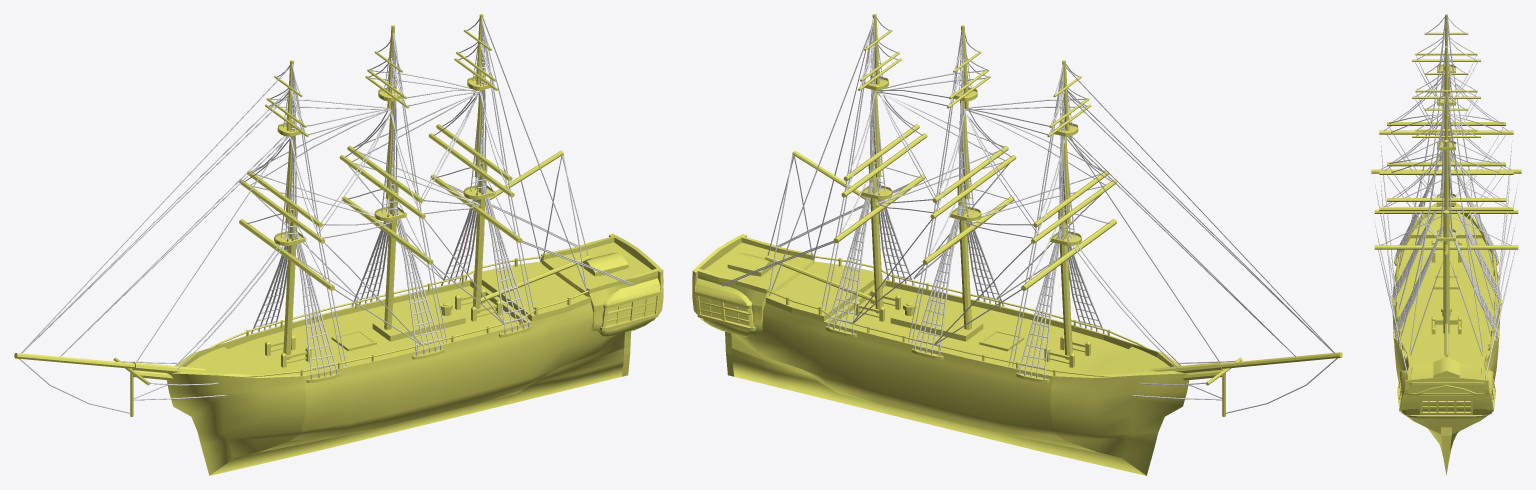
The model's file is ship.fbx.
3 renders of one model, left to right at view 1: azimuth 30°, elevation 25°; view 2: azimuth 150°, elevation 25°; view 3: azimuth 270°, elevation 25°, orthographic. The views are drawn at different scales.
Parts seen in each view (by area): view 1: pCube49; view 2: pCube49; view 3: pCube49.
Boxes of the visible parts, x1=… form: pCube49: x1=14, y1=14, x2=663, y2=475; pCube49: x1=692, y1=14, x2=1342, y2=475; pCube49: x1=1371, y1=14, x2=1521, y2=475.
Bounding box in the file's own units: 50.44 × 31.35 × 12.73.
